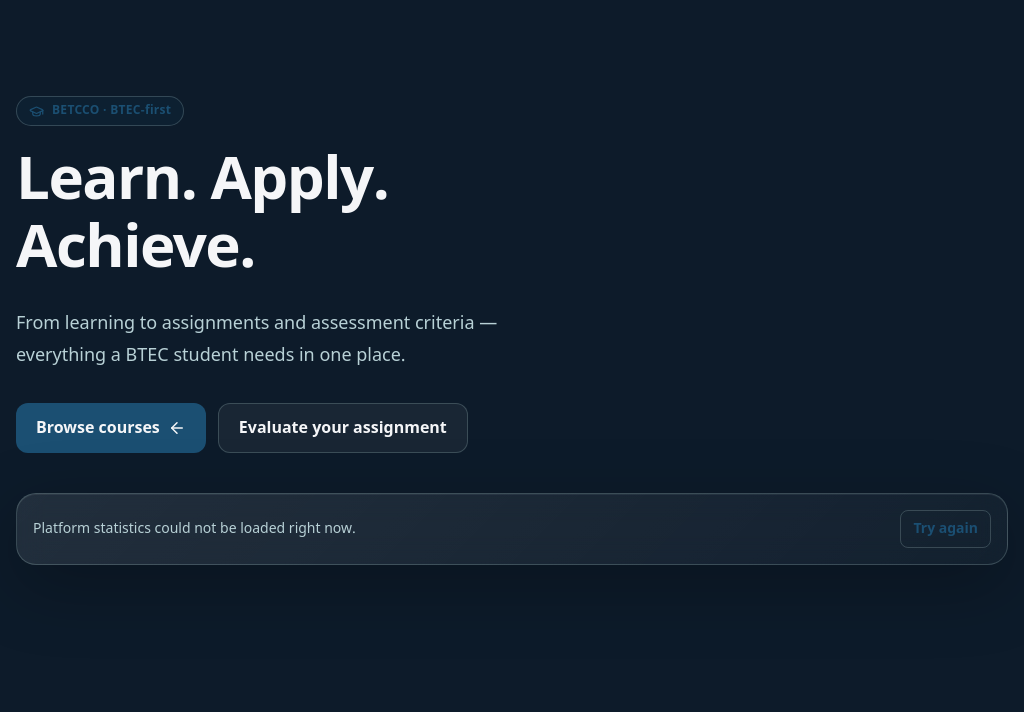
Test: keeps summary error and bounded user retry
Expected: the text "Platform statistics could not be loaded right now." is shown, [33, 519, 356, 539]
Click the button "Try again": click(946, 529) [900, 510, 991, 548]
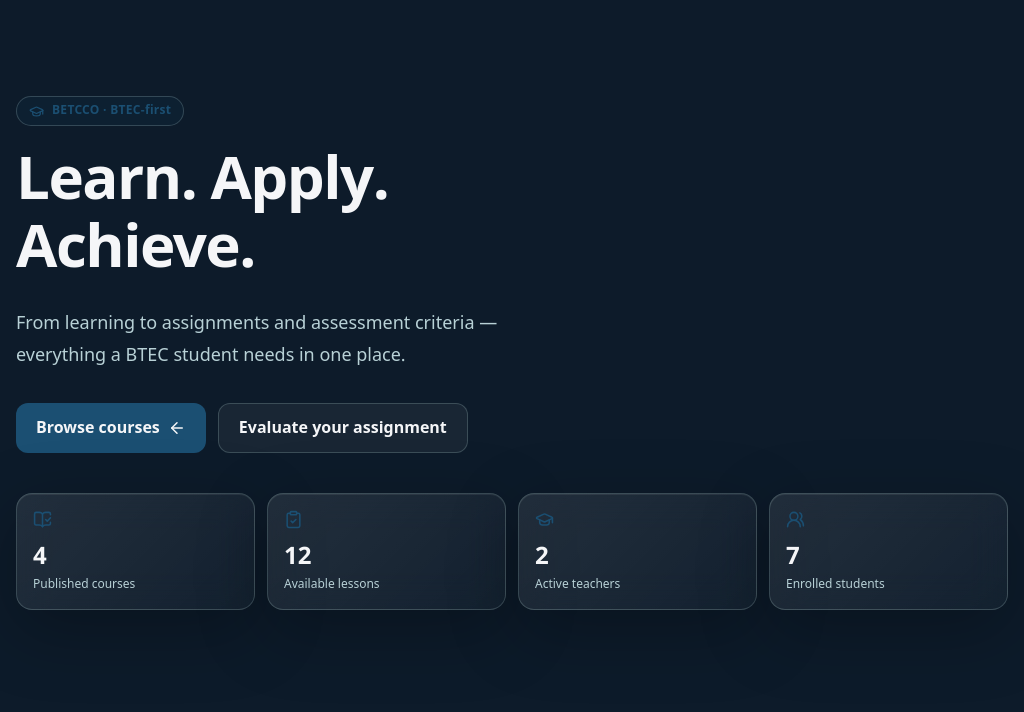
Now the text "Published courses" is shown, box [33, 572, 135, 597]
